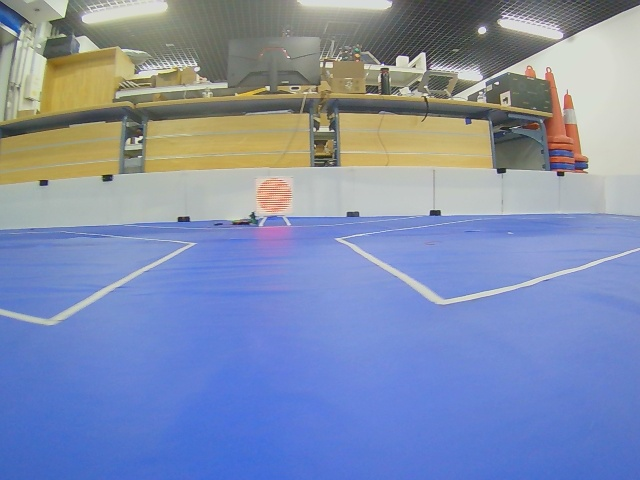red: (256, 178, 293, 216)
